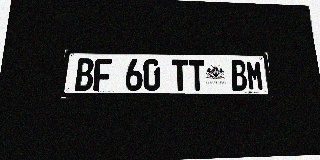0: (143, 59, 160, 91)
6: (125, 59, 143, 91)
B: (74, 58, 94, 91), (230, 60, 248, 91)
F: (93, 59, 112, 91)
M: (246, 61, 264, 91)
T: (188, 60, 206, 91), (172, 60, 189, 91)
